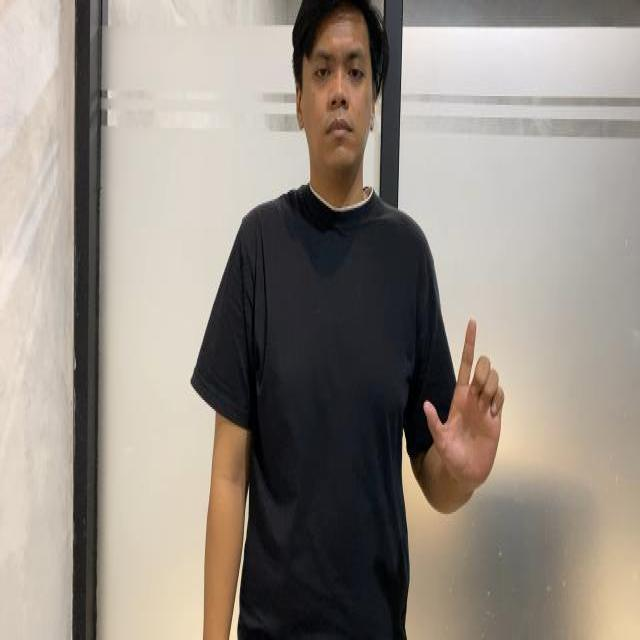L: (422, 313, 526, 498)
